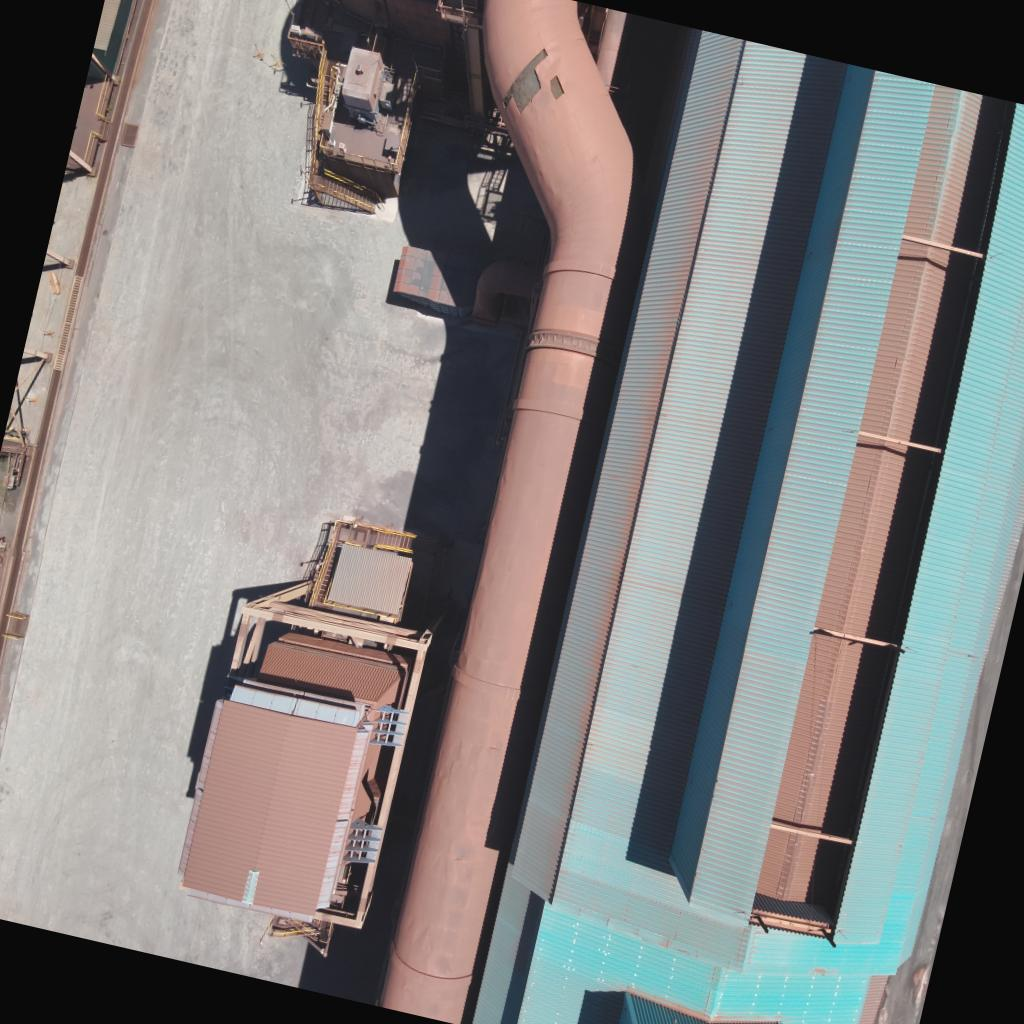Failures: (490, 22, 556, 128), (542, 66, 572, 108)
